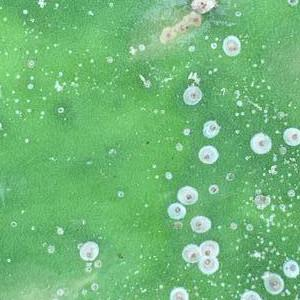Femea: (251, 134, 269, 152), (201, 242, 219, 258), (222, 36, 240, 52), (179, 188, 197, 203), (197, 149, 216, 163), (264, 274, 280, 290), (184, 247, 201, 262), (80, 243, 96, 258), (283, 130, 299, 145), (200, 258, 216, 273), (183, 89, 200, 103), (192, 217, 210, 230), (169, 206, 185, 219), (204, 122, 217, 137)
